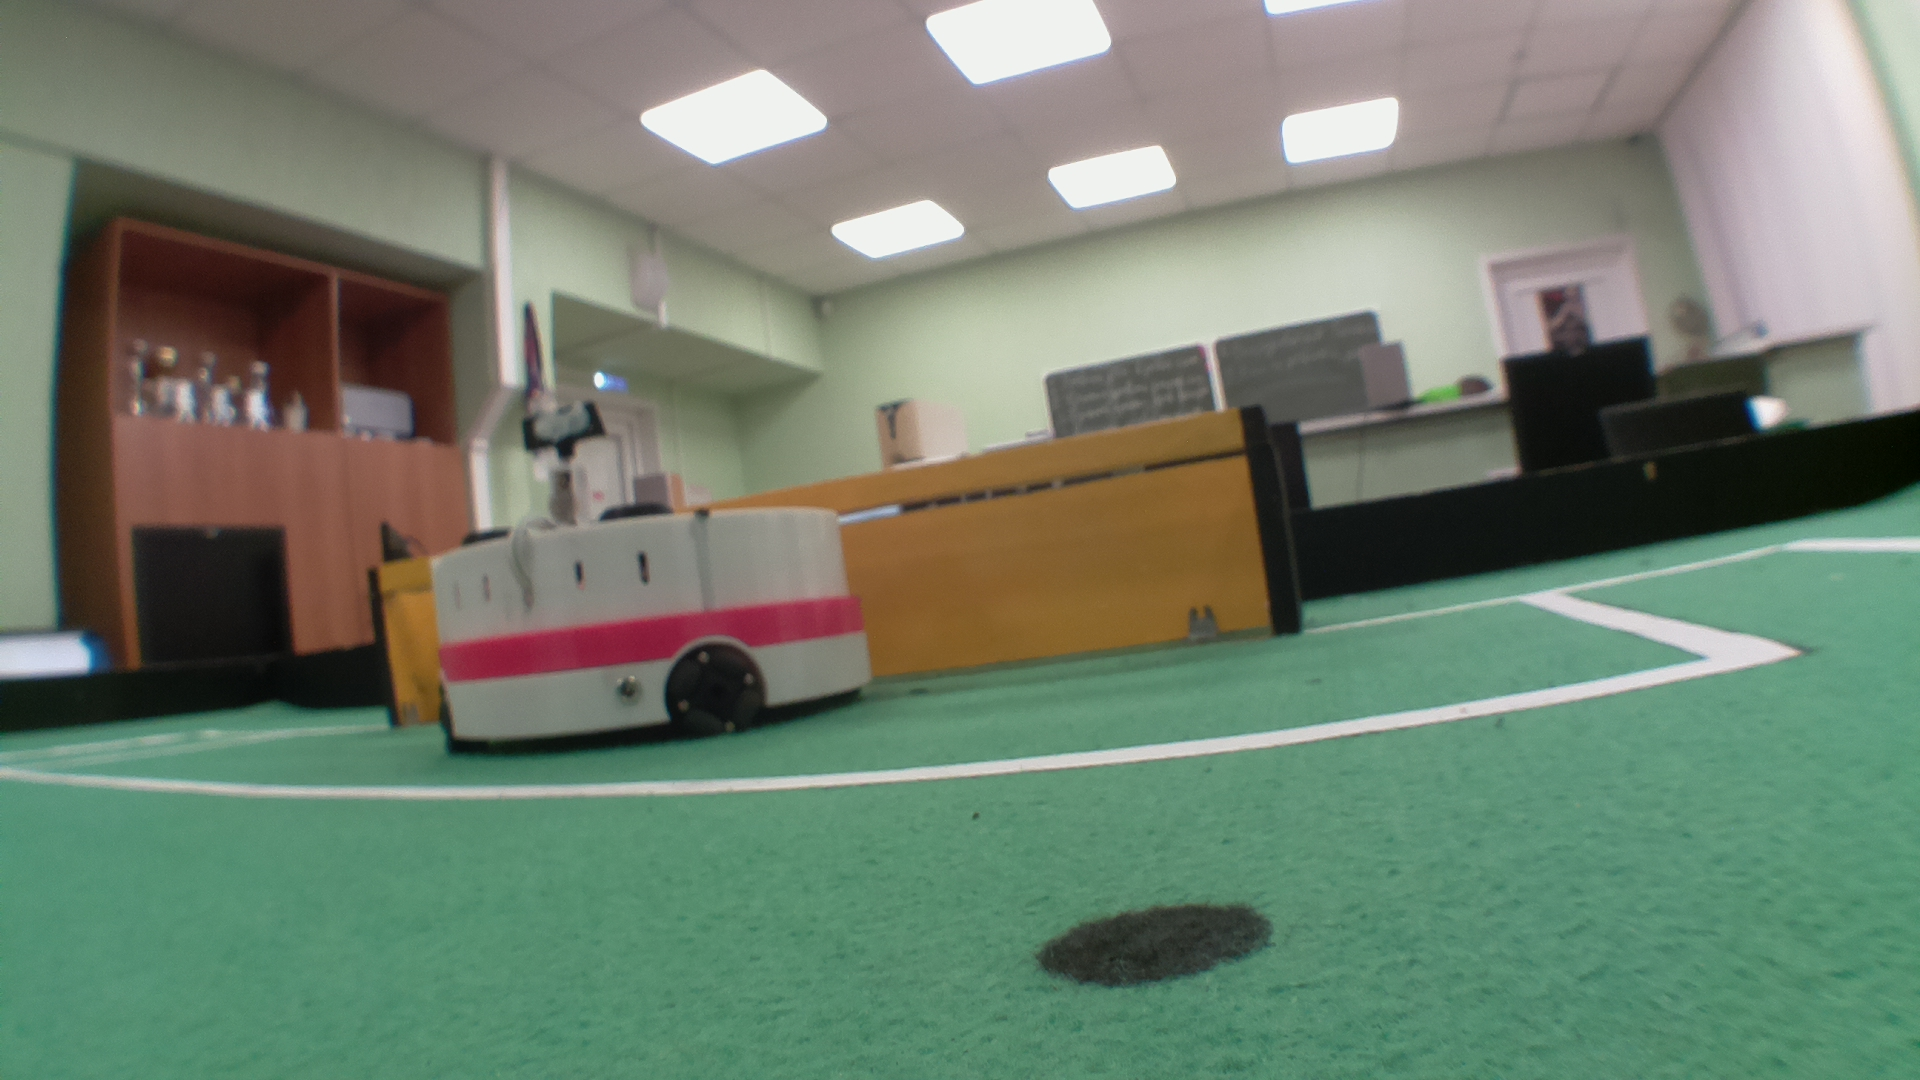YellowGoal: (392, 410, 1261, 719)
